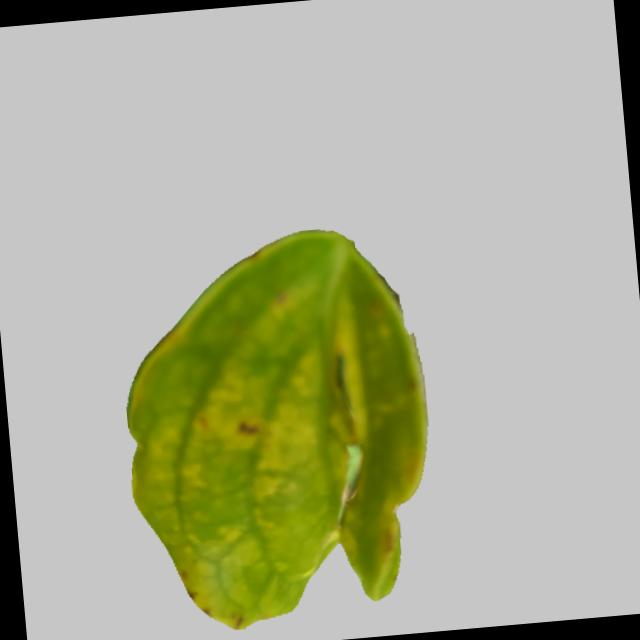yellow-mottle-virus: (97, 224, 448, 637)
